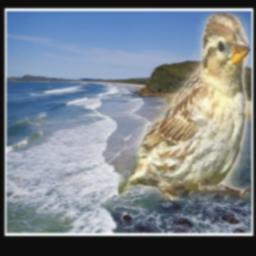Sparrow: (118, 13, 250, 200)
